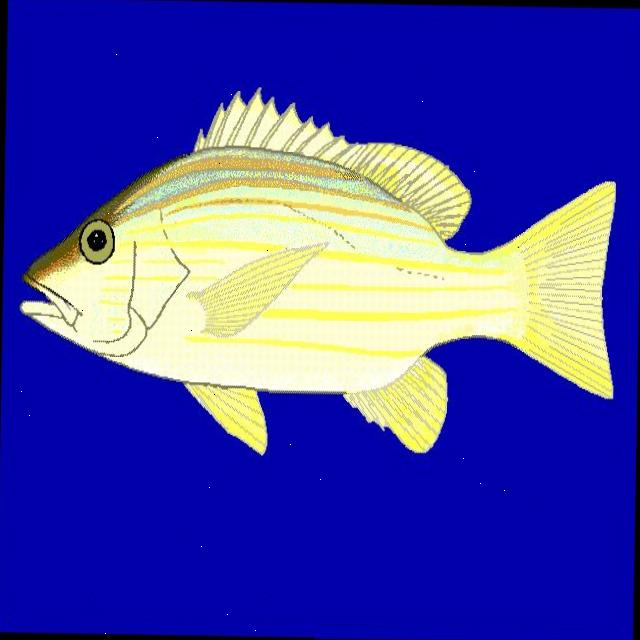ikan: (16, 81, 619, 462)
